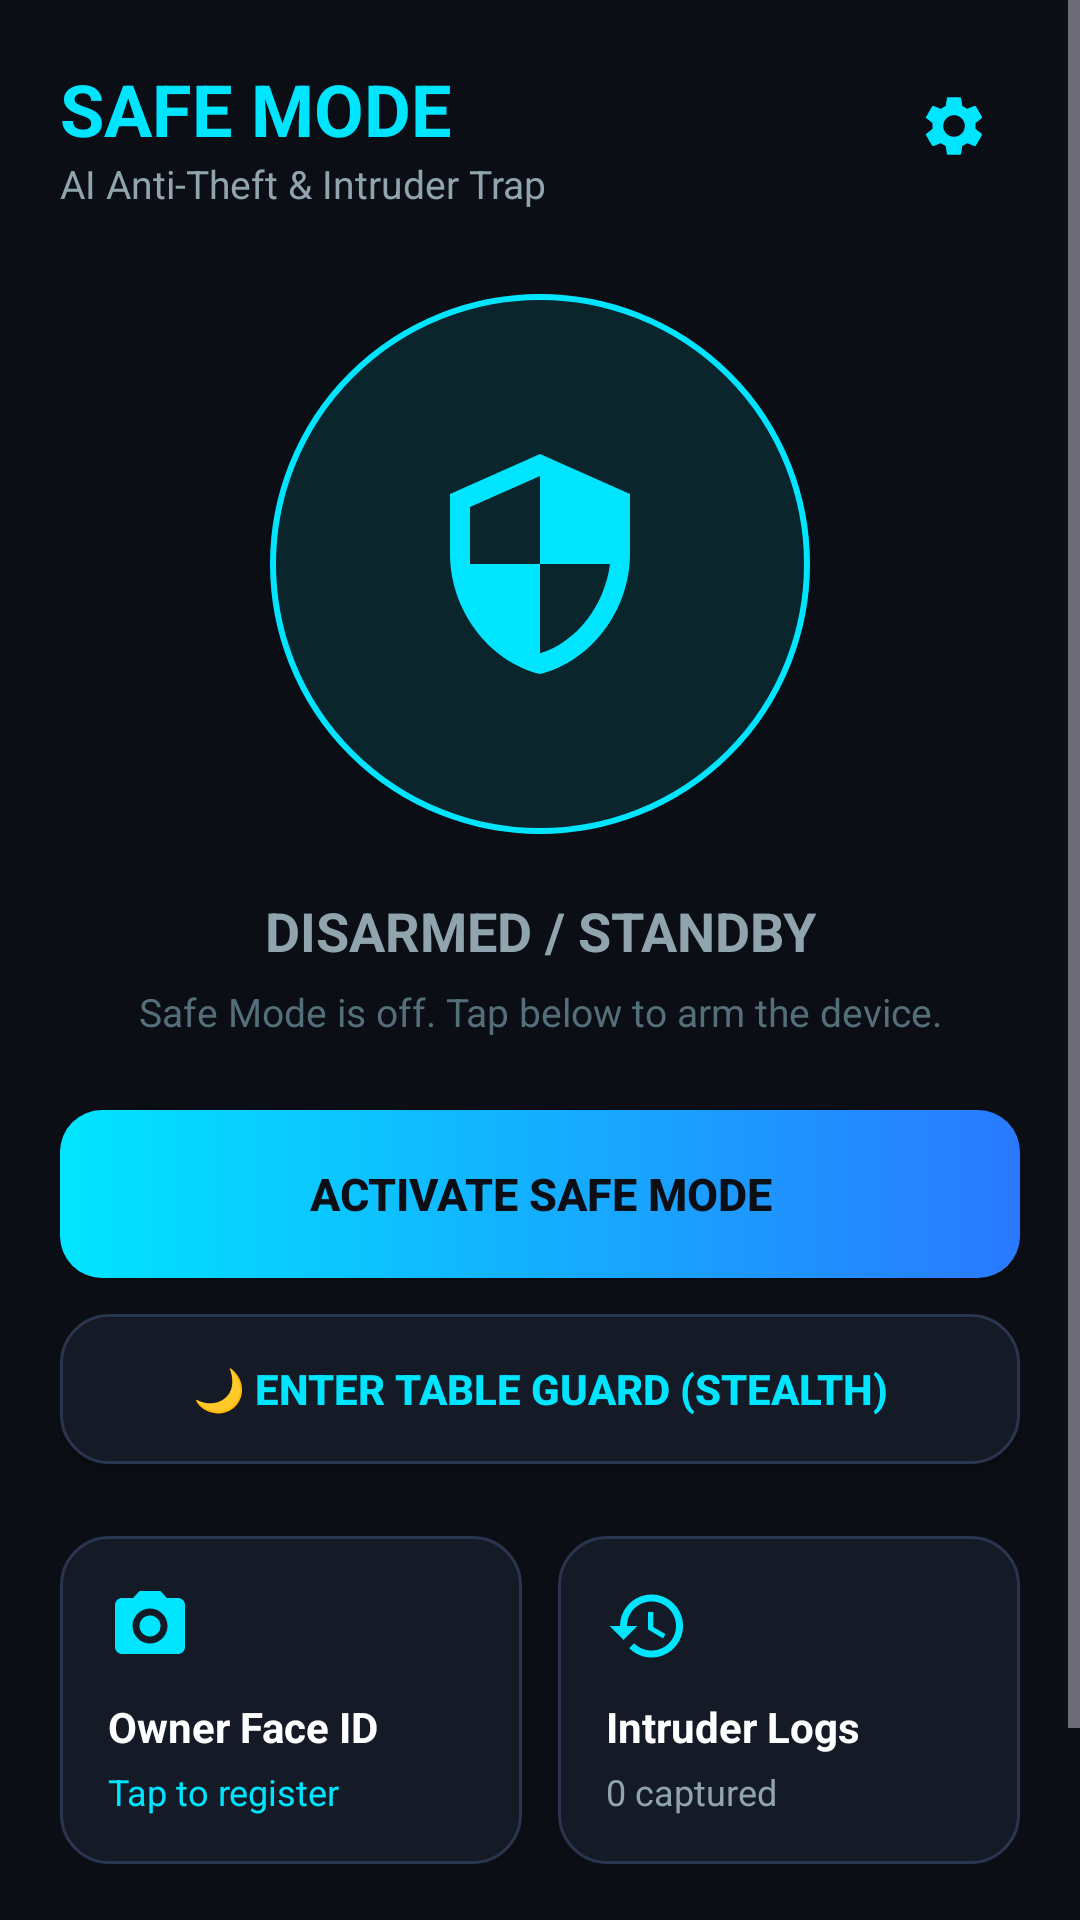

Icons on this 1080 x 1920 Android screen, each with its box as detection(x1, y1, x2, y2):
camera: detection(115, 1591, 185, 1654)
history: detection(610, 1594, 683, 1658)
Settings: detection(926, 97, 982, 155)
shield: detection(450, 454, 630, 674)
